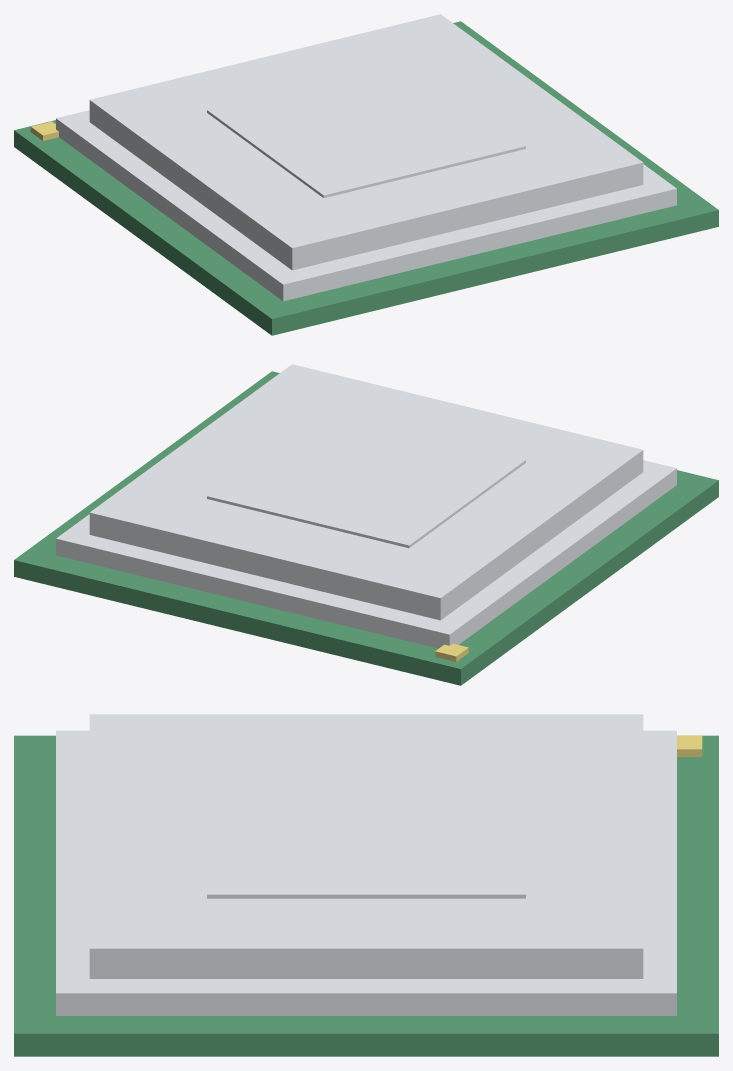
The model's file is cpu.glb.
3 renders of one model, top to bottom at view 1: azimuth 30°, elevation 25°; view 2: azimuth 150°, elevation 25°; view 3: azimuth 270°, elevation 25°, orthographic. The views are drawn at different scales.
Visible parts, largest first — view 1: IHS_Cap, Substrate, IHS_Laser_Mark, IHS_Base; view 2: IHS_Cap, Substrate, IHS_Laser_Mark, IHS_Base; view 3: IHS_Cap, Substrate, IHS_Laser_Mark, IHS_Base, Alignment_Triangle.
Boxes of the visible parts, bbox=[...] form: IHS_Cap: bbox=[89, 14, 643, 270]; Substrate: bbox=[14, 21, 718, 335]; IHS_Laser_Mark: bbox=[207, 61, 525, 197]; IHS_Base: bbox=[56, 110, 676, 301]; IHS_Cap: bbox=[89, 364, 643, 620]; Substrate: bbox=[14, 371, 718, 685]; IHS_Laser_Mark: bbox=[207, 411, 525, 547]; IHS_Base: bbox=[56, 460, 676, 648]; IHS_Cap: bbox=[89, 714, 643, 978]; Substrate: bbox=[14, 735, 718, 1056]; IHS_Laser_Mark: bbox=[207, 760, 525, 898]; IHS_Base: bbox=[56, 730, 676, 1015]; Alignment_Triangle: bbox=[677, 735, 702, 756].
Size of the model in its own units: 0.84 by 0.1155 by 0.84.
